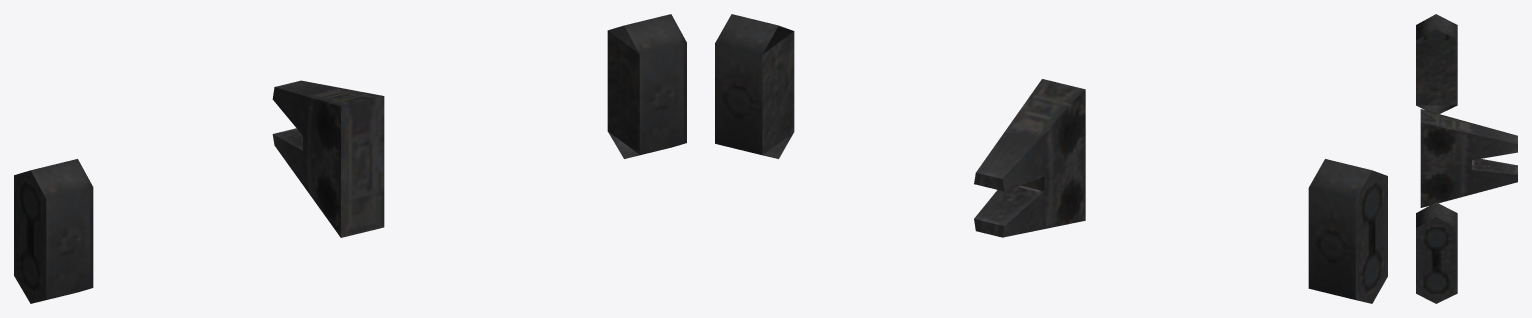
3 renders of one model, left to right at view 1: azimuth 30°, elevation 25°; view 2: azimuth 150°, elevation 25°; view 3: azimuth 270°, elevation 25°, orthographic. The views are drawn at different scales.
Parts seen in each view (by area): view 1: set_0_group_0; view 2: set_0_group_0; view 3: set_0_group_0.
Part boxes in pixels (x1,y1,x2,y2): set_0_group_0: (14,14,686,303); set_0_group_0: (715,14,1387,303); set_0_group_0: (1416,14,1517,303).
Size of the model in its own units: 0.5498 by 0.1096 by 0.1166.
Materials: 1 (1 with a texture image).
